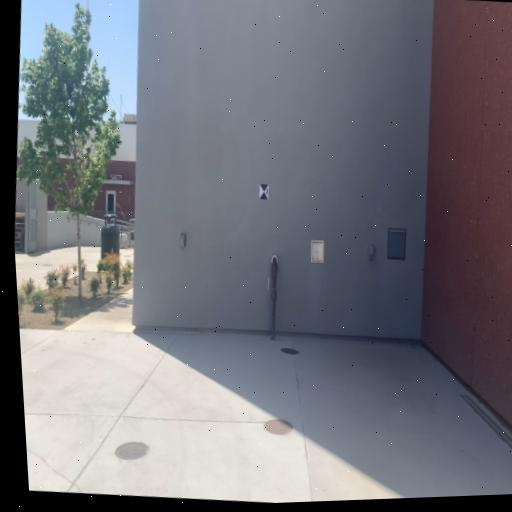target3: (259, 183, 269, 201)
